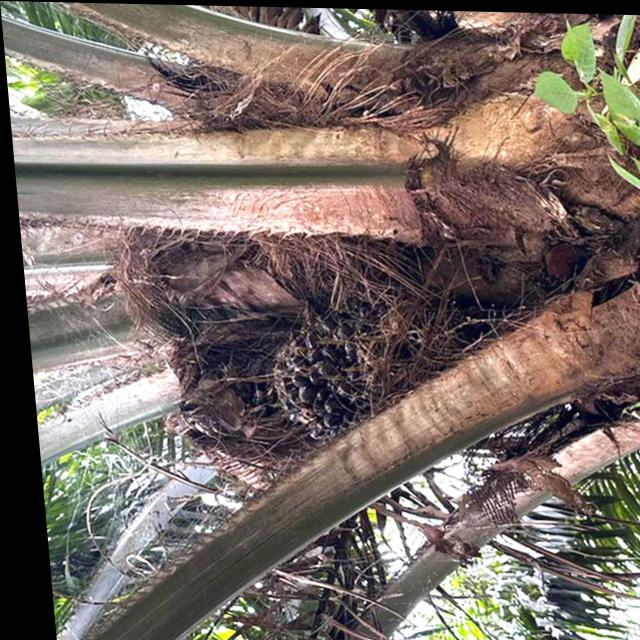almost: (258, 289, 465, 445)
